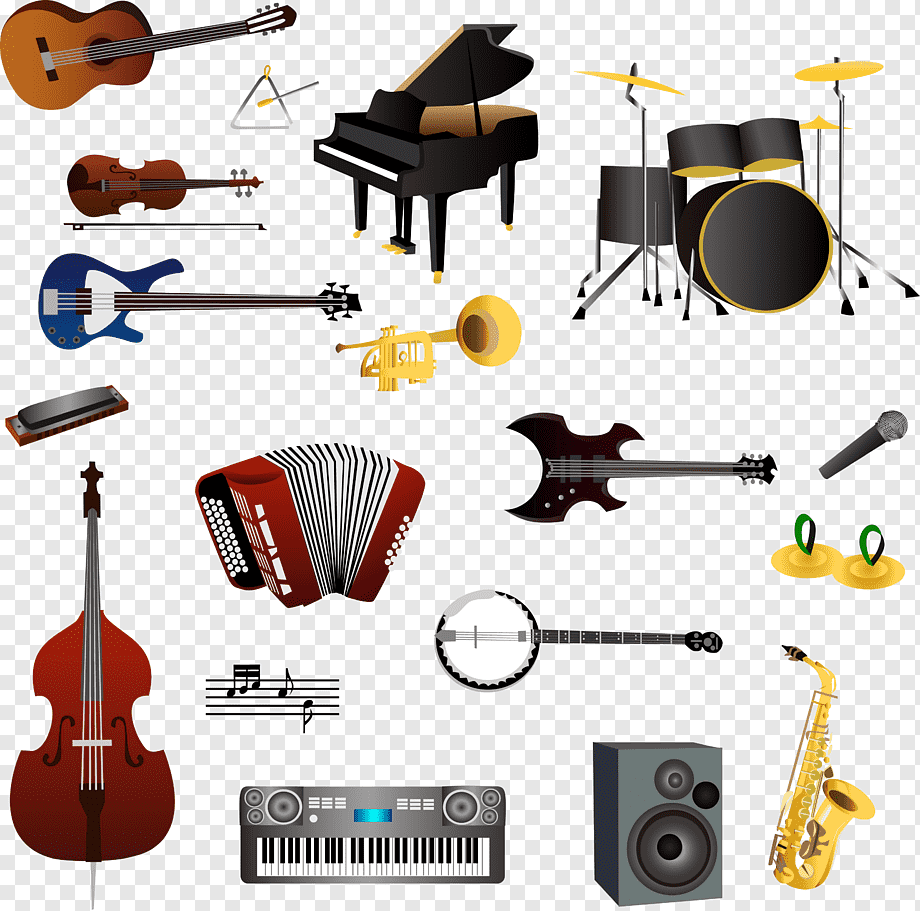Piano: (308, 33, 581, 284), (187, 745, 554, 911)
Saxophone: (736, 608, 920, 888)
Violin: (1, 152, 306, 264)
